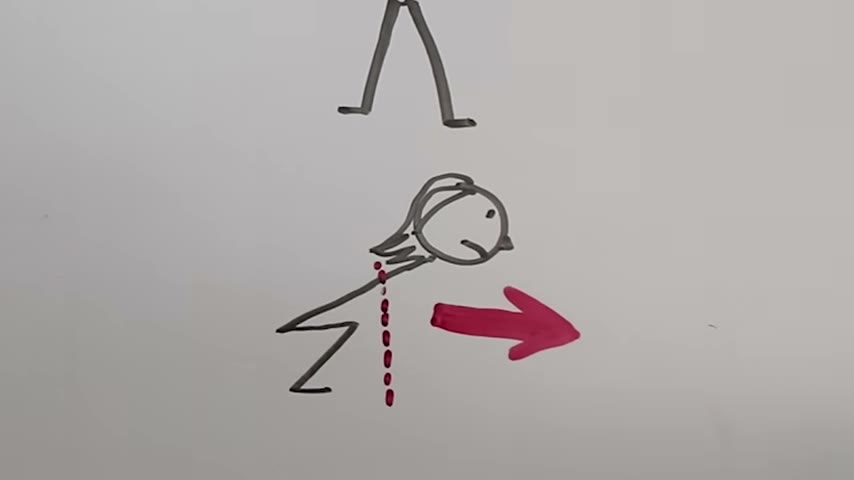barbell_plate_side: (440, 170, 520, 382), (334, 0, 392, 119)
